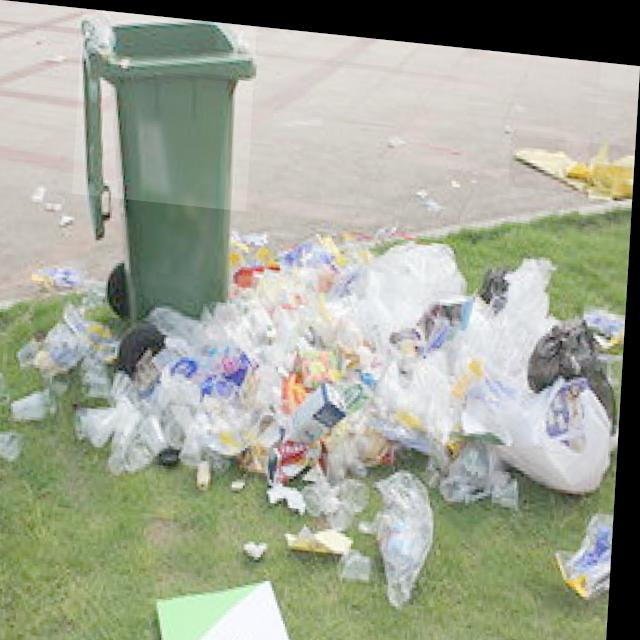garbage: (0, 186, 629, 611), (510, 123, 634, 185)
garbage_bin: (69, 7, 257, 325)
